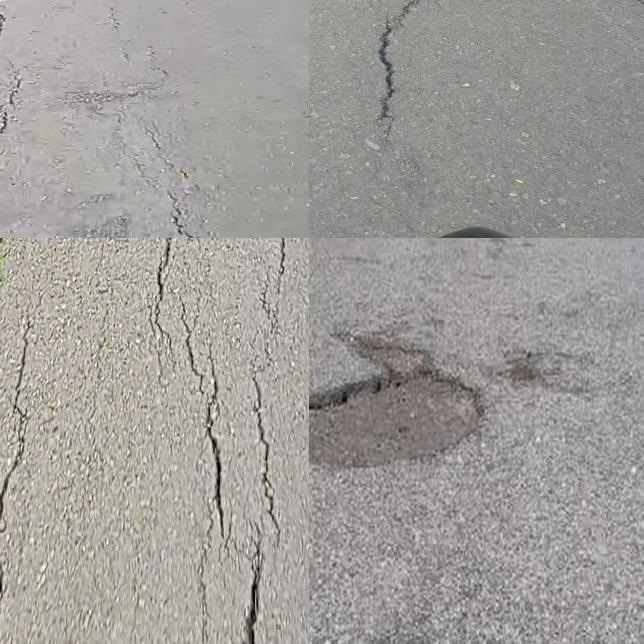Lubang: (309, 374, 486, 470)
Memanjang: (0, 337, 42, 644), (173, 338, 237, 536), (365, 0, 439, 135), (136, 238, 180, 340), (237, 532, 274, 644), (156, 181, 208, 238), (277, 238, 309, 292)
